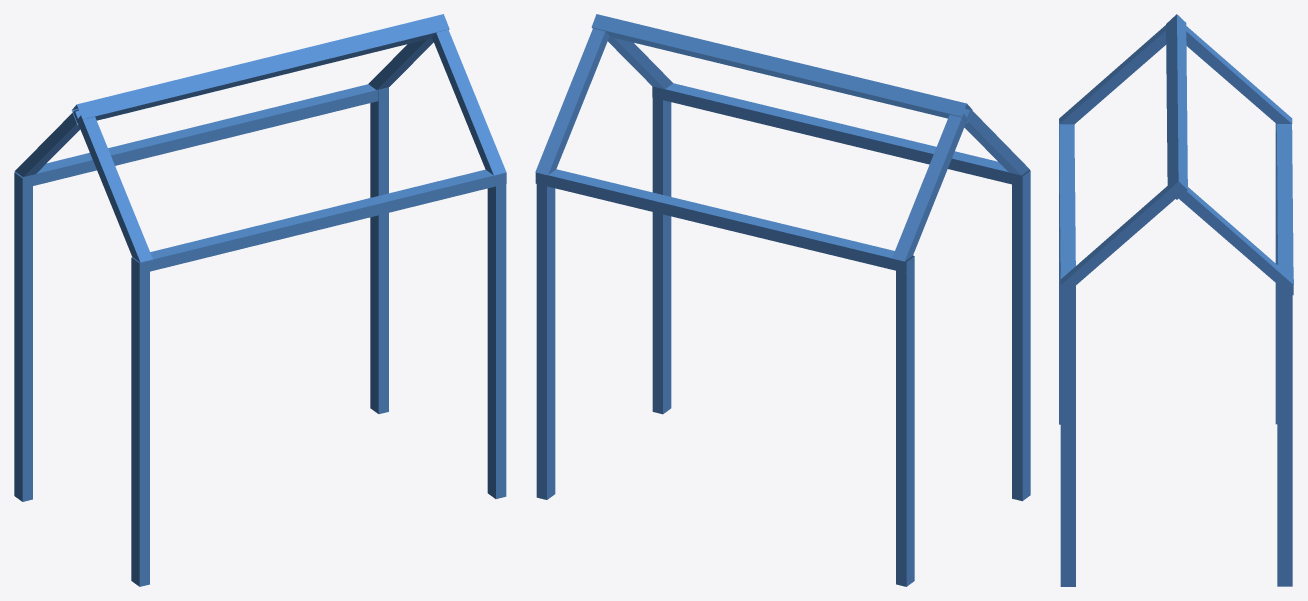
File: Childrens_Room_Bed_Base.fbx
The picture shows the model from 3 angles, left to right: view 1: azimuth 30°, elevation 25°; view 2: azimuth 150°, elevation 25°; view 3: azimuth 270°, elevation 25°; orthographic projection. The views are drawn at different scales.
Parts seen in each view (by area): view 1: Childrens_Room_Bed_Base; view 2: Childrens_Room_Bed_Base; view 3: Childrens_Room_Bed_Base.
Boxes of the visible parts, bbox=[...] form: Childrens_Room_Bed_Base: bbox=[14, 14, 506, 586]; Childrens_Room_Bed_Base: bbox=[535, 14, 1030, 586]; Childrens_Room_Bed_Base: bbox=[1059, 14, 1293, 586].
Bounding box in the file's own units: 252 × 285 × 149.
